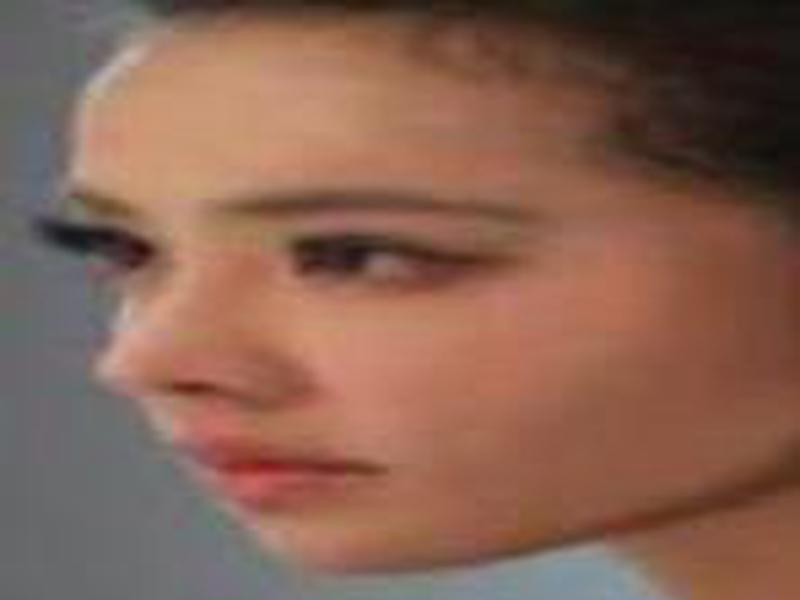without_mask: (25, 29, 797, 576)
